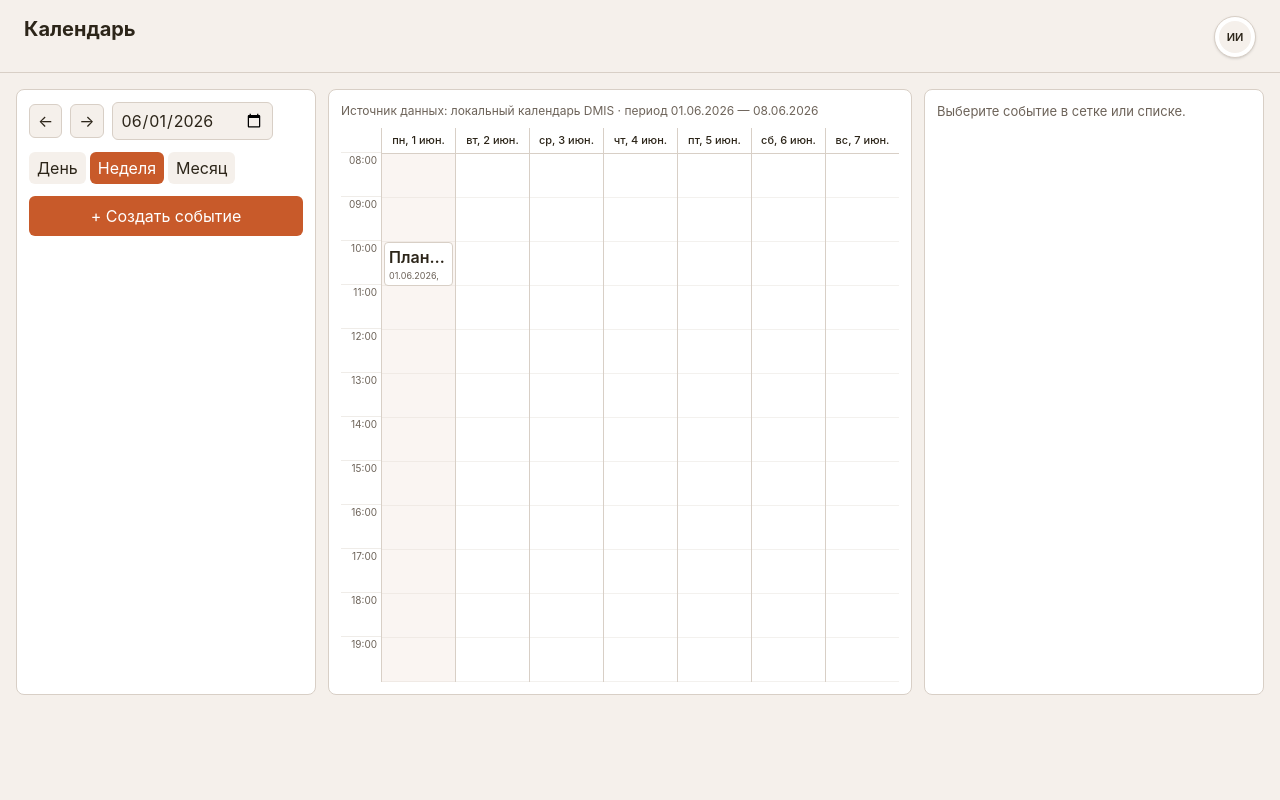
Test case: CalendarPage — P1 write participants › shows 'Написать участникам' action for selected event
Click the button "Месяц" at x=202, y=168, box [168,152,235,184]
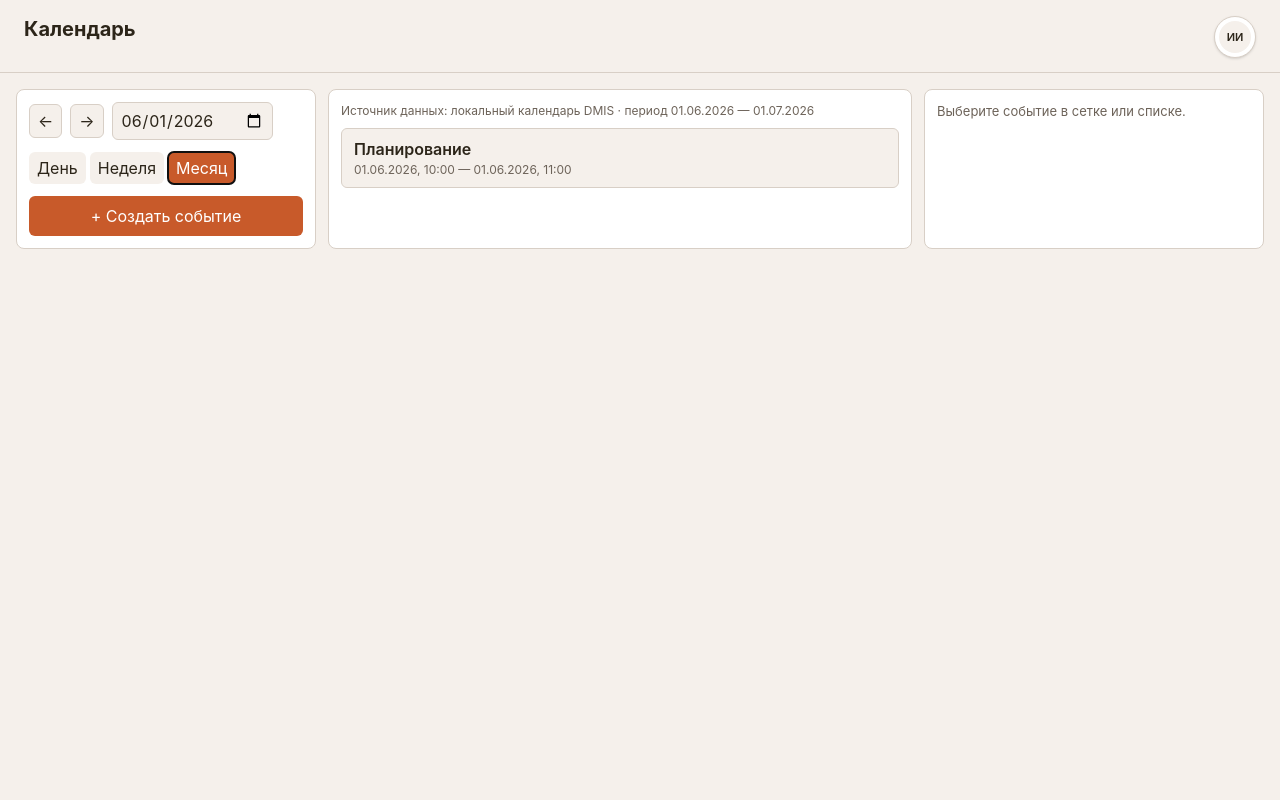
Click the button "Планирование 01.06.2026, 10:00 — 01.06.2026, 11:00" at x=413, y=149, box [341,128,899,188]
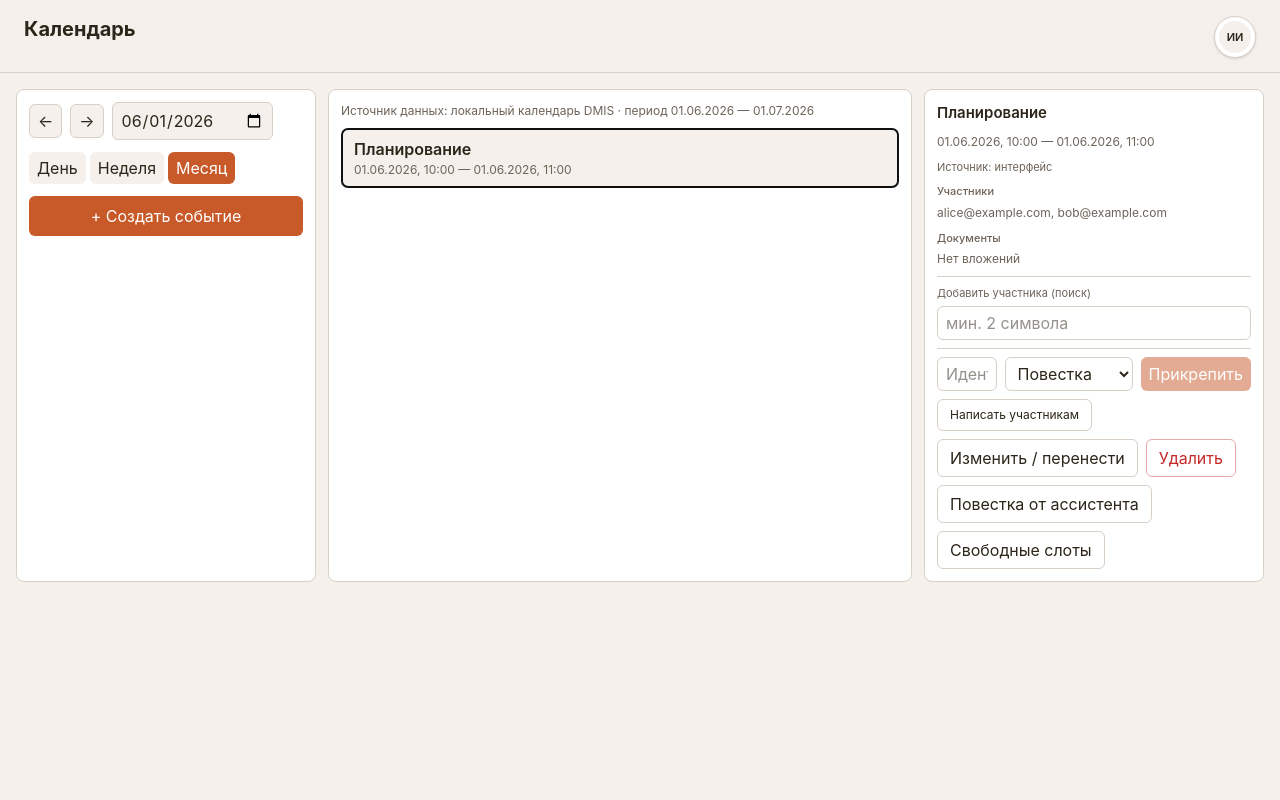
expect the link "Написать участникам" is shown: met, box [937,398,1092,430]
